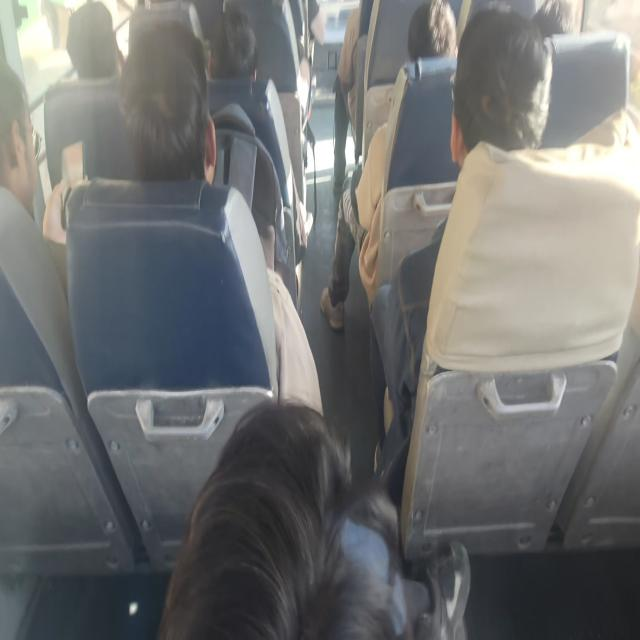person: (369, 1, 638, 503), (42, 11, 323, 415), (157, 397, 410, 638), (320, 0, 458, 331), (0, 58, 80, 402), (206, 6, 291, 210), (118, 15, 216, 184), (332, 5, 360, 194), (65, 1, 124, 80), (407, 0, 458, 61)
